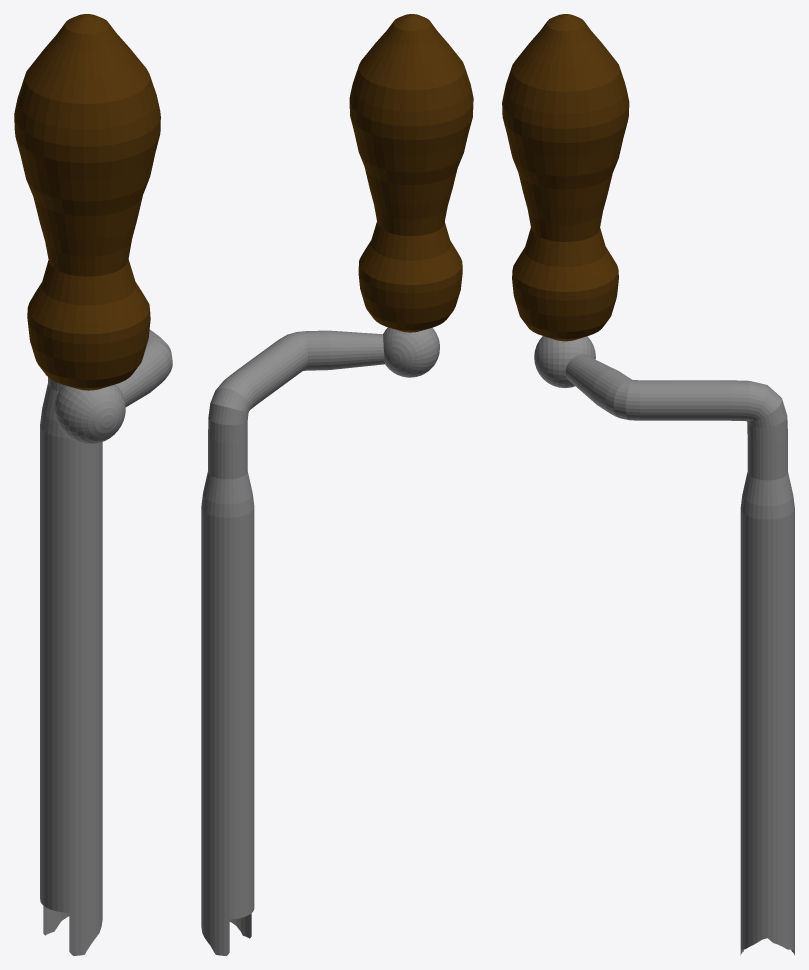
File: crank.glb
3 renders of one model, left to right at view 1: azimuth 30°, elevation 25°; view 2: azimuth 150°, elevation 25°; view 3: azimuth 270°, elevation 25°, orthographic. The views are drawn at different scales.
Visible parts, largest first — view 1: Crank; view 2: Crank; view 3: Crank.
Boxes of the visible parts, bbox=[...] form: Crank: bbox=[14, 14, 172, 955]; Crank: bbox=[201, 14, 473, 955]; Crank: bbox=[502, 14, 794, 955].
Size of the model in its own units: 0.048 by 0.2485 by 0.0734.
